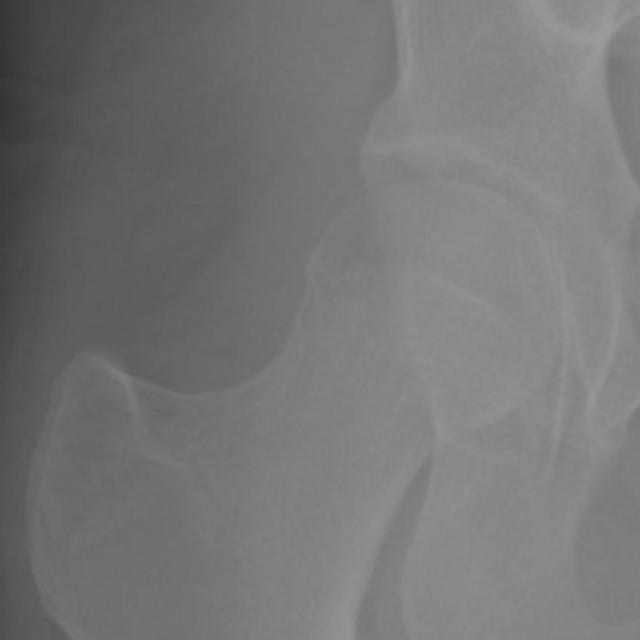Fitted_femural_head: (262, 176, 432, 262)
